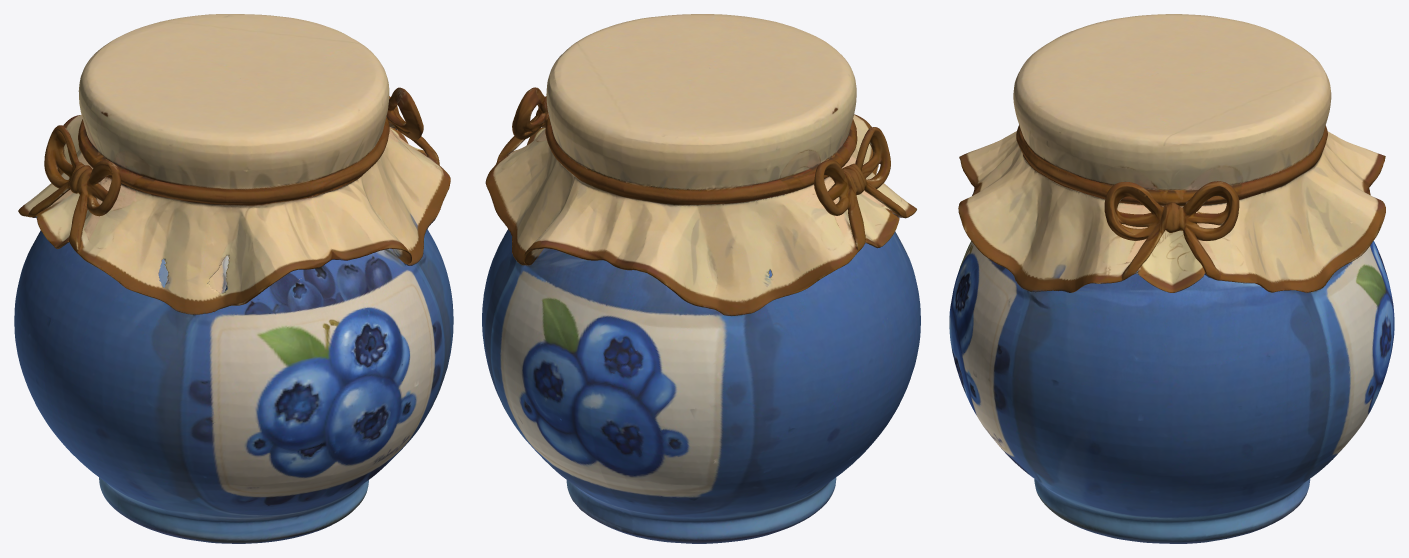
Rendered from berryjam.glb.
3 renders of one model, left to right at view 1: azimuth 30°, elevation 25°; view 2: azimuth 150°, elevation 25°; view 3: azimuth 270°, elevation 25°, orthographic.
Size of the model in its own units: 1.91 by 2 by 1.93.
1 material, 1 textured.
